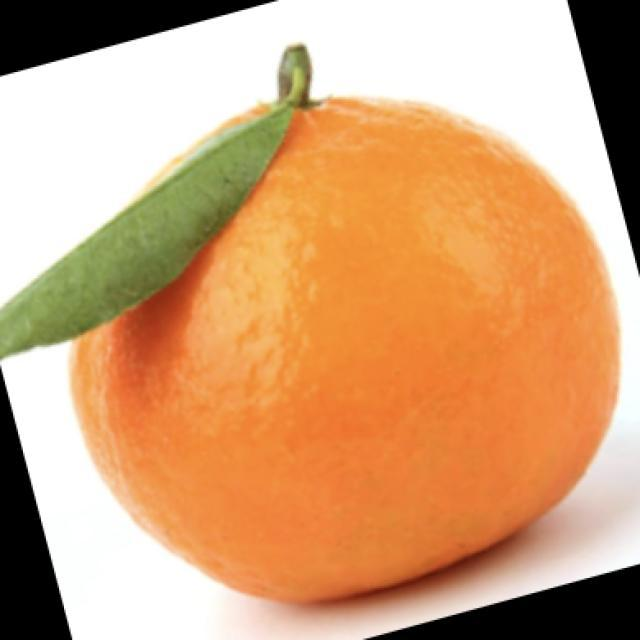matang: (72, 47, 619, 601)
